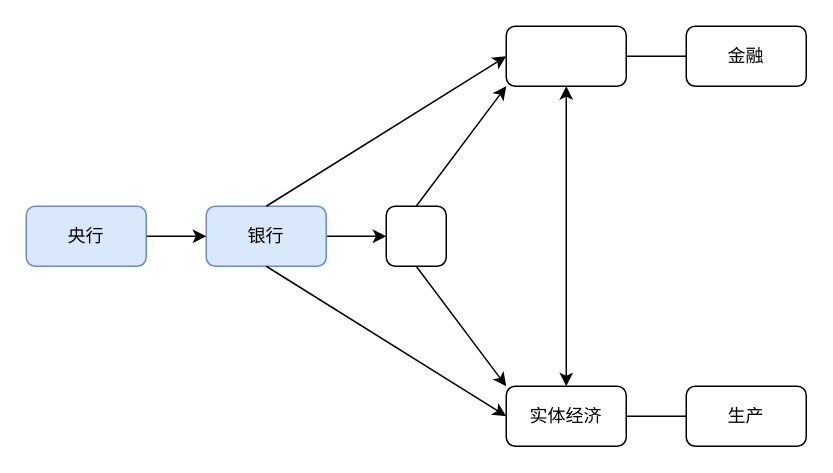
This 833x473 diagram has some shape labels left out. The box of each missing label's shape, as (x1, y1, x2, y2) in pixels:
财政: (385, 205, 446, 266)
资本市场: (505, 25, 626, 86)
